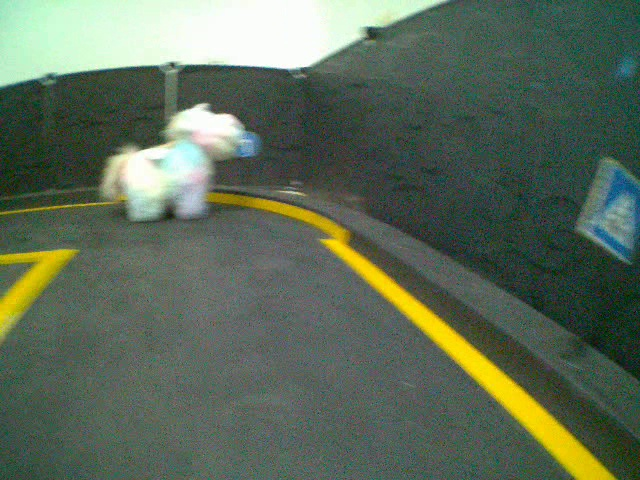unicorn: (96, 100, 246, 227)
